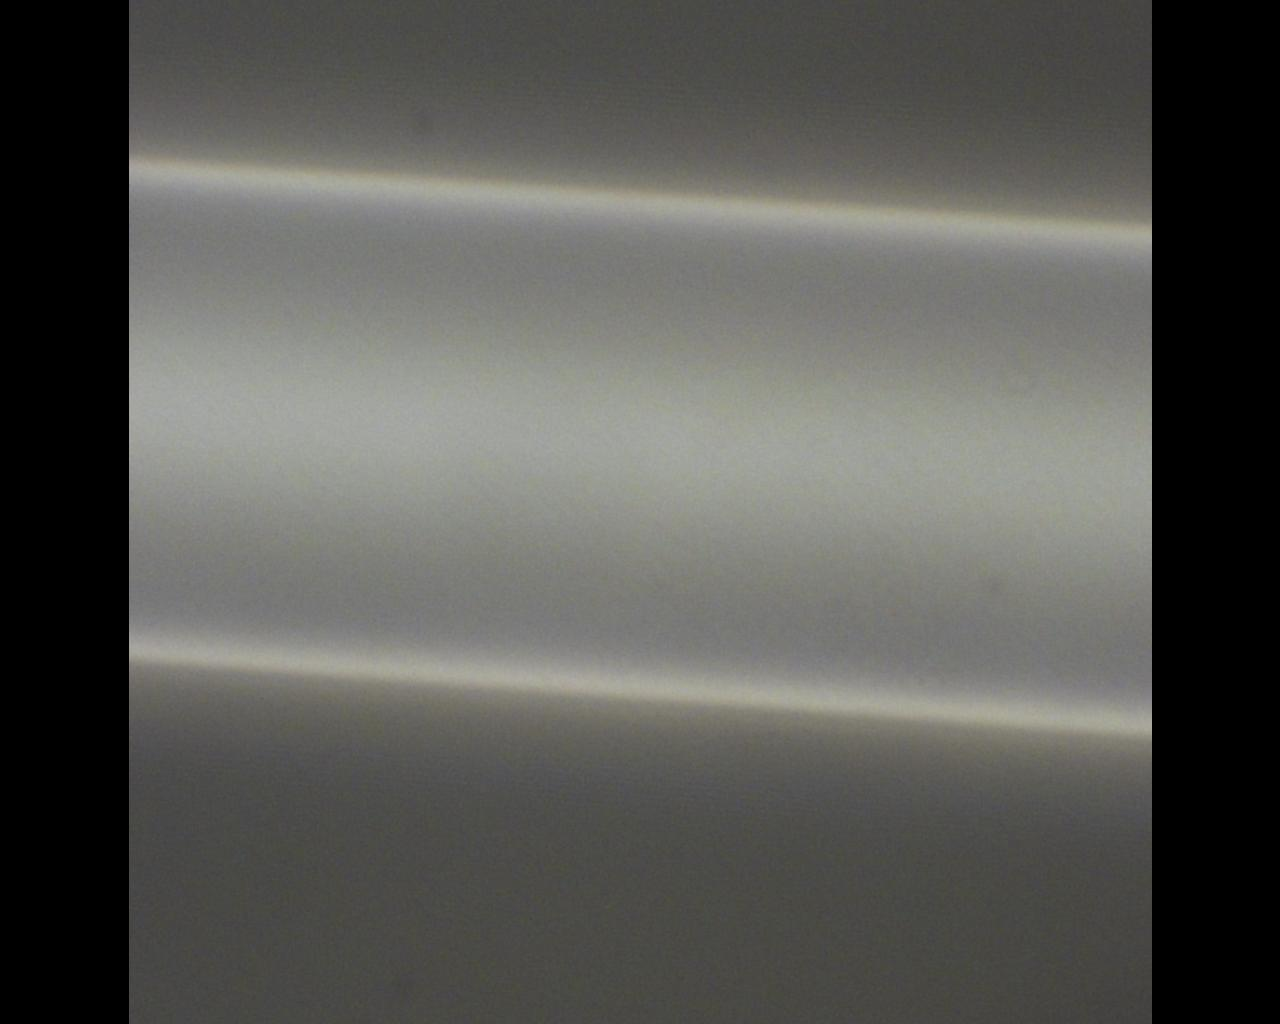fiber: (689, 0, 915, 1024)
